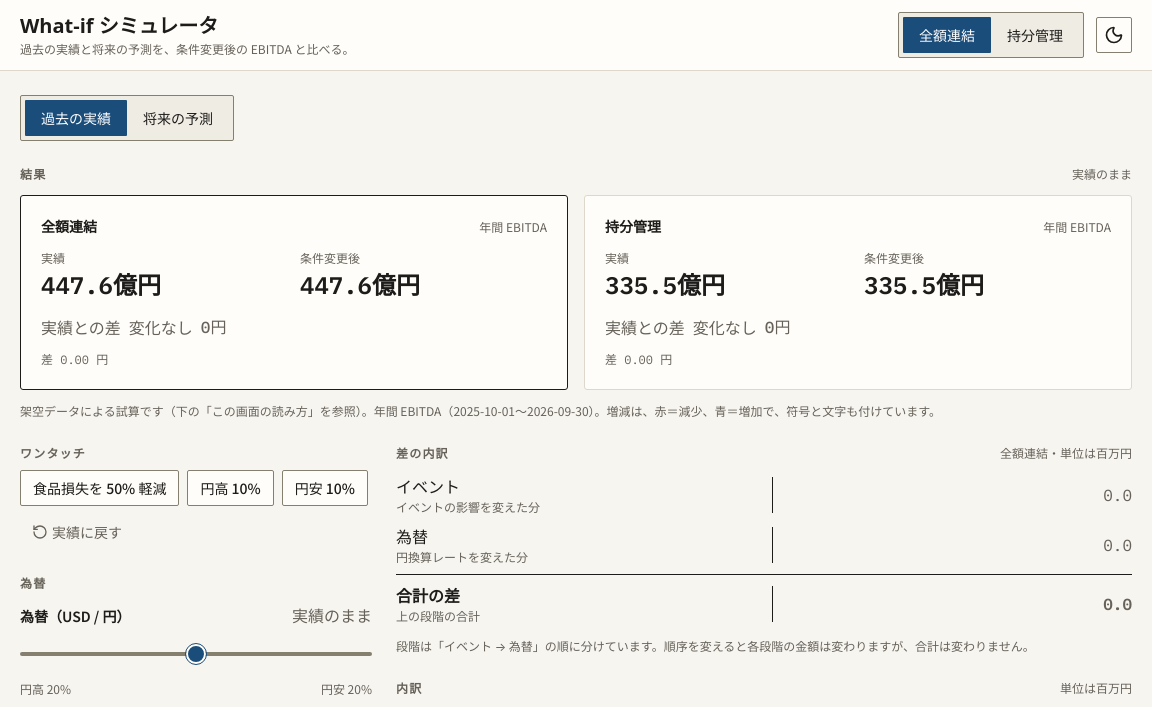
Test: Simulator の操作 › ワンタッチ「円安 10%」で、増加と + 符号つきで出る（増えたときも、色だけに頼らない）
The width and height of the screenshot is (1152, 707).
What coordinates should you click on to do the following:
click the button "円安 10%"
I would click on:
 (325, 488)
Its box is [282, 470, 368, 506].
Wait 250 ms
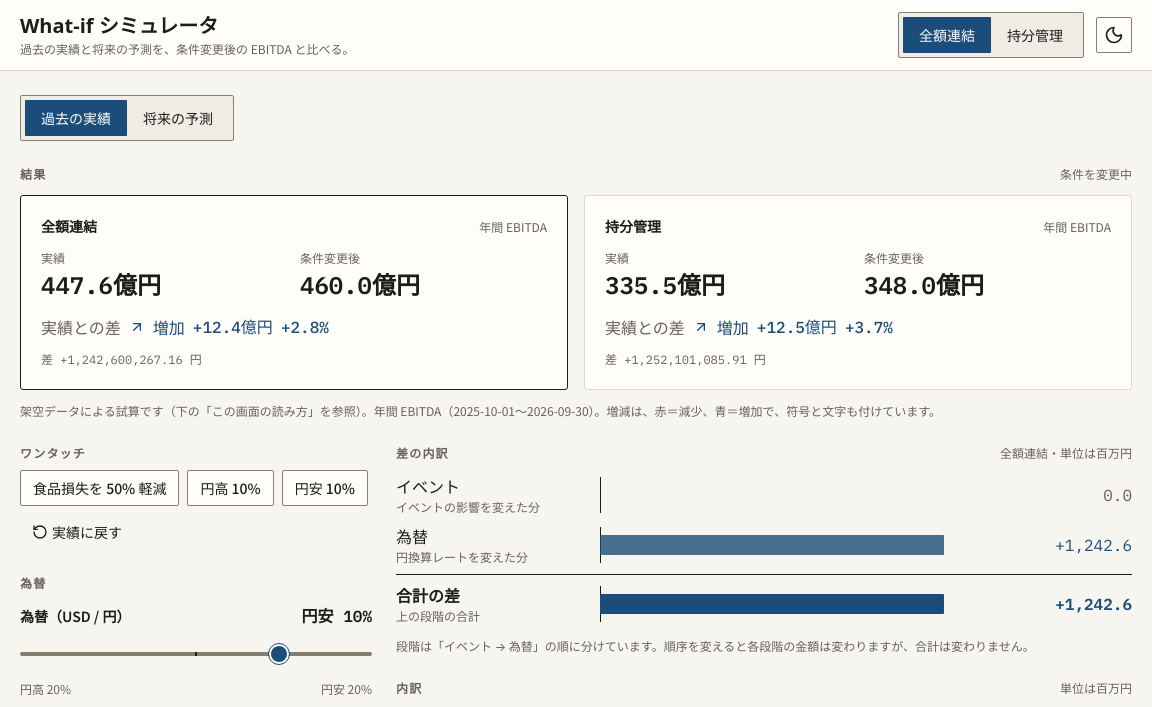
Now the text "増加" next to "+12.4億円" is shown, box [153, 315, 185, 339]
Now the text "+12.4億円" is shown, box [193, 315, 273, 339]
Now the text "差 +1,242,600,267.16 円" is shown, box [41, 352, 202, 367]
